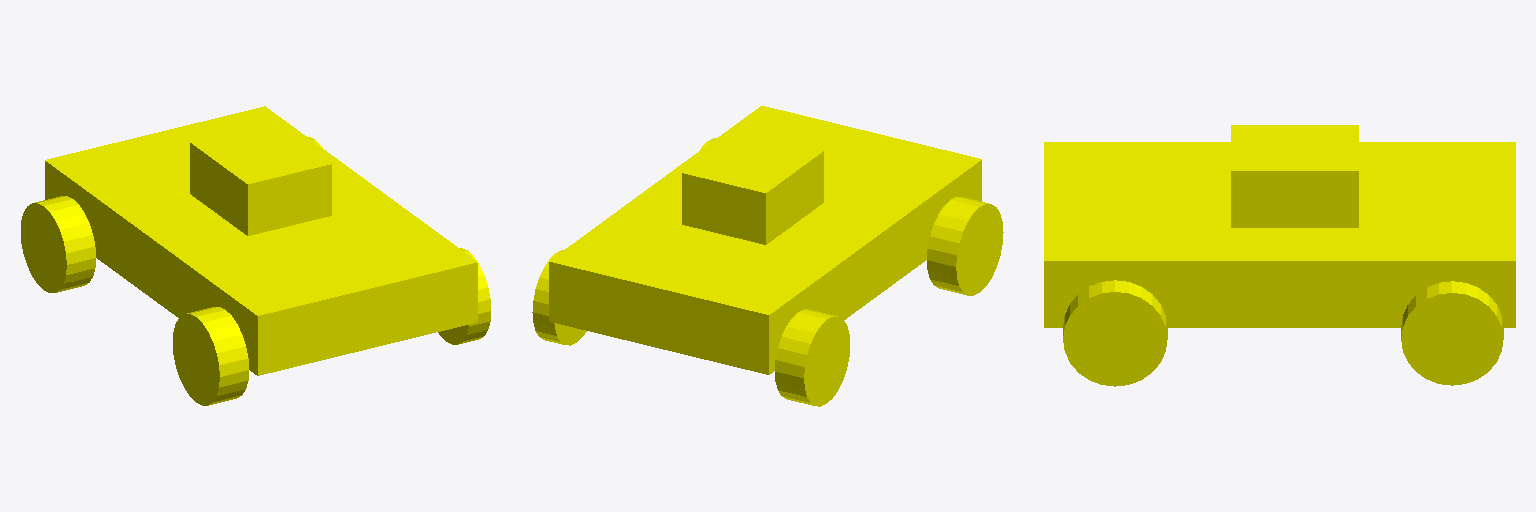
URDF robot description (robot):
<?xml version="1.0"?>
<robot name="robot">
  <link name="base_link">
    <visual>
      <geometry>
        <mesh scale="1 1 1" filename="package://robot_description/meshes/bot.dae"/>
      </geometry>
      <origin xyz="0 0 0.226"/>
    </visual>
  </link>
</robot>

--- Facts derived from the render (not from the file) ---
3 views of the same robot in one strip: view 1: azimuth 30°, elevation 25°; view 2: azimuth 150°, elevation 25°; view 3: azimuth 270°, elevation 25° (orthographic).
Model robot with 1 links and 0 joints (none), rooted at base_link, posed every joint at zero.
Links seen in each view (by area): view 1: base_link; view 2: base_link; view 3: base_link.
Link boxes in pixels (left/top/right/bottom): base_link: left=21, top=106, right=490, bottom=405; base_link: left=532, top=106, right=1003, bottom=406; base_link: left=1044, top=125, right=1515, bottom=386.
Bounding box of the posed robot: 0.8548 × 1.16 × 0.4649 m (x, y, z).
Meshes: 1 distinct files referenced, 1 mesh visuals loaded (1 Collada DAE).